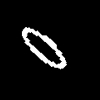chain: (22, 27, 66, 68)
